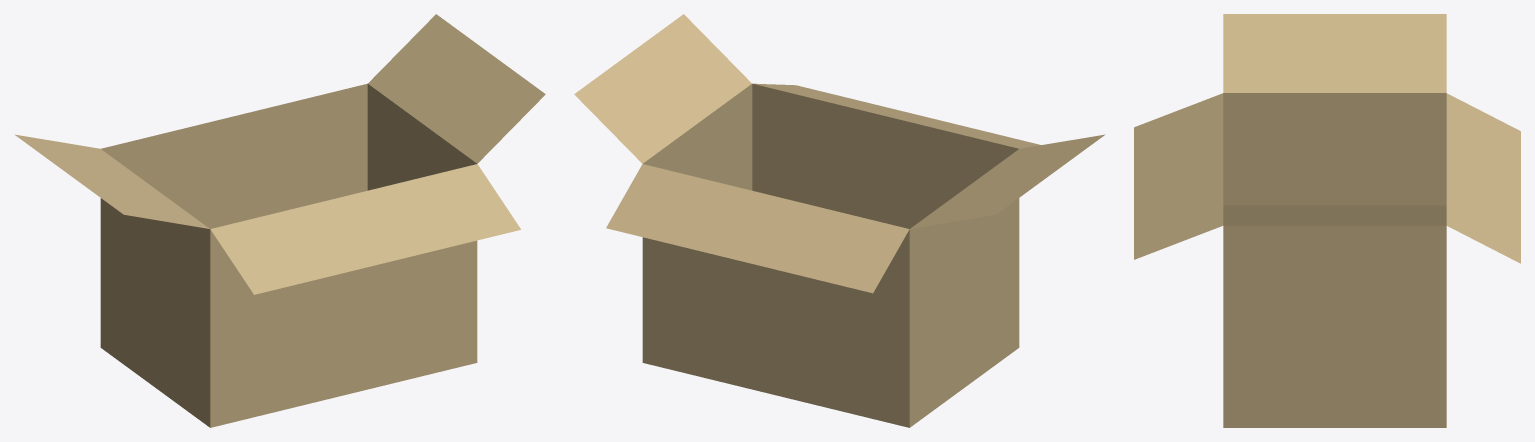
The picture shows the model from 3 angles, left to right: view 1: azimuth 30°, elevation 25°; view 2: azimuth 150°, elevation 25°; view 3: azimuth 270°, elevation 25°; orthographic projection.
Visible parts, largest first — view 1: box; view 2: box; view 3: box.
Part boxes in pixels (left/top/right/bottom): box: left=14, top=14, right=545, bottom=427; box: left=574, top=14, right=1105, bottom=427; box: left=1134, top=14, right=1520, bottom=427.
Bounding box in the file's own units: 4.44 × 2.53 × 3.47.
